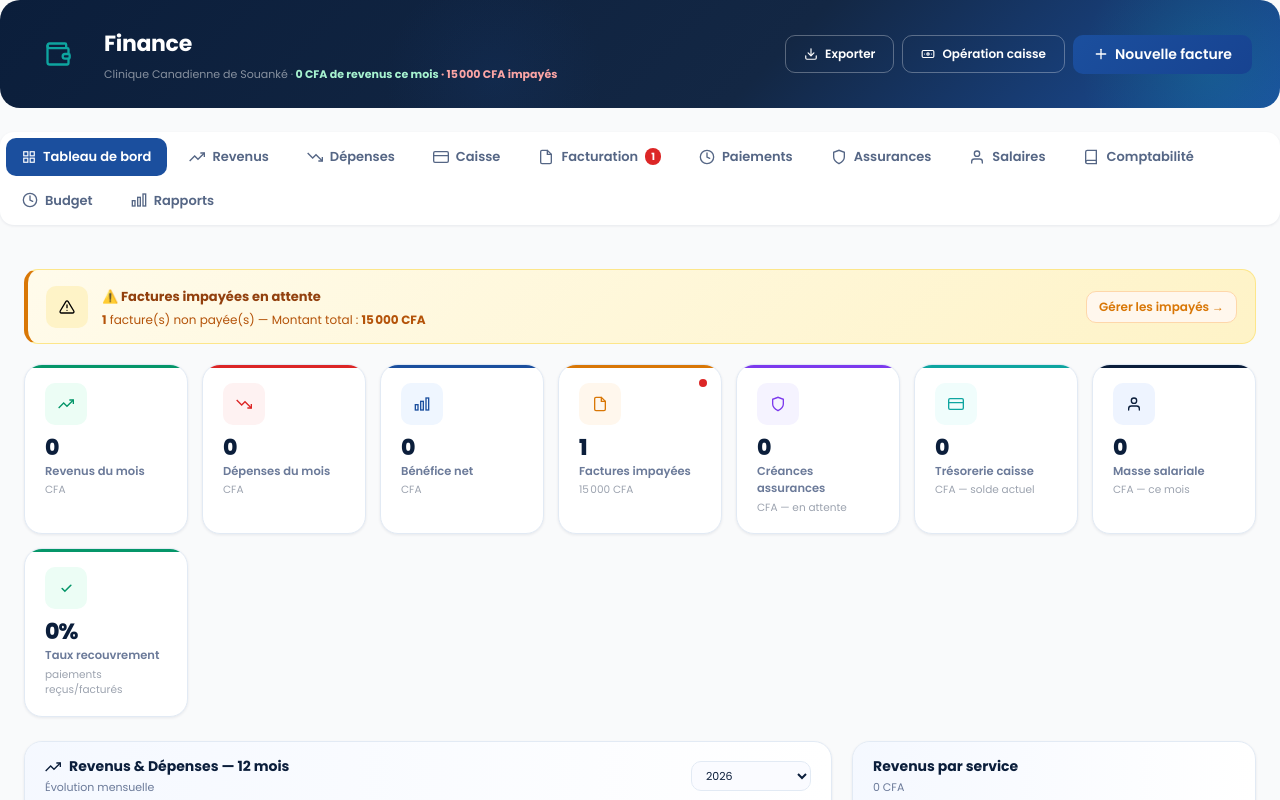
Test case: contrôle négatif — PUT /finance/:id réussit réellement → vrai succès, le bouton "Payer" disparaît
Click the button "Facturation 1". click: (600, 157)
box: x1=522 y1=138 x2=677 y2=176
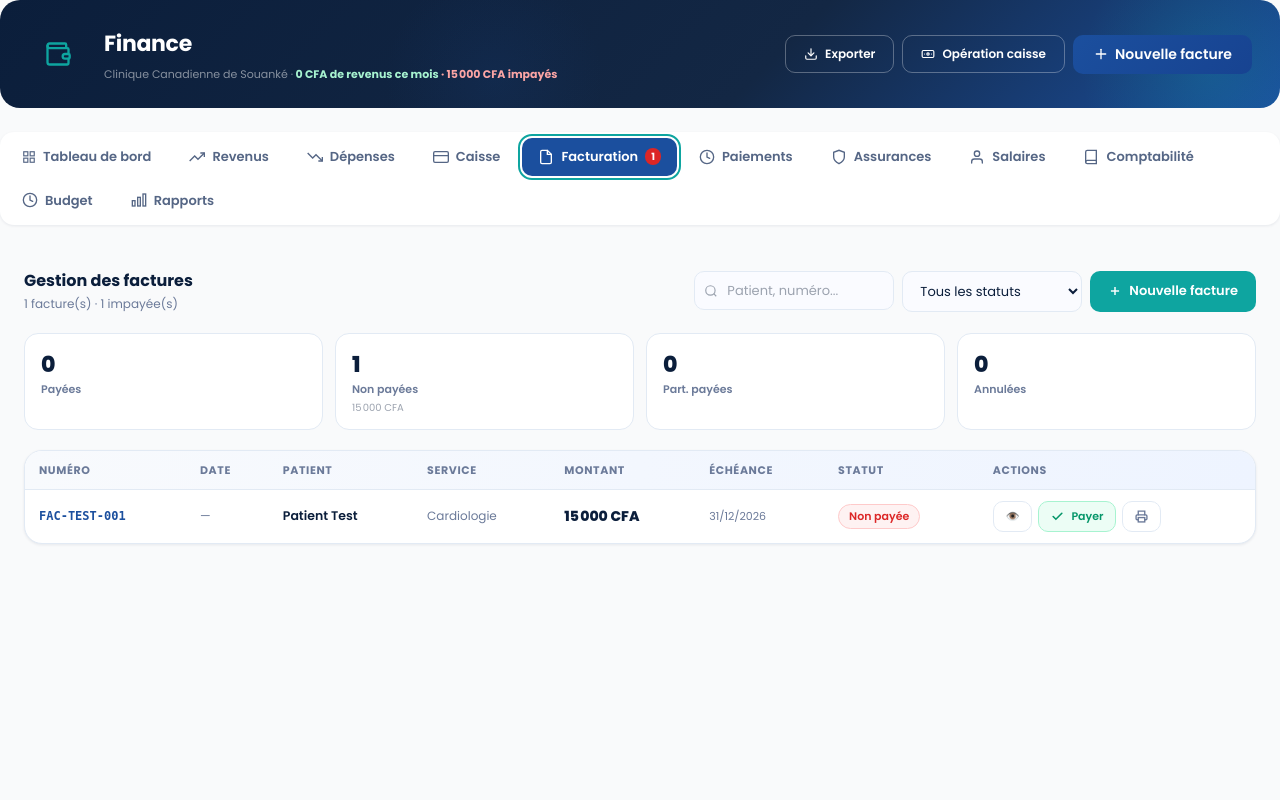
Check: the button "Payer" is shown
Click the button "Payer". click: (1077, 516)
box: x1=1038 y1=501 x2=1116 y2=532
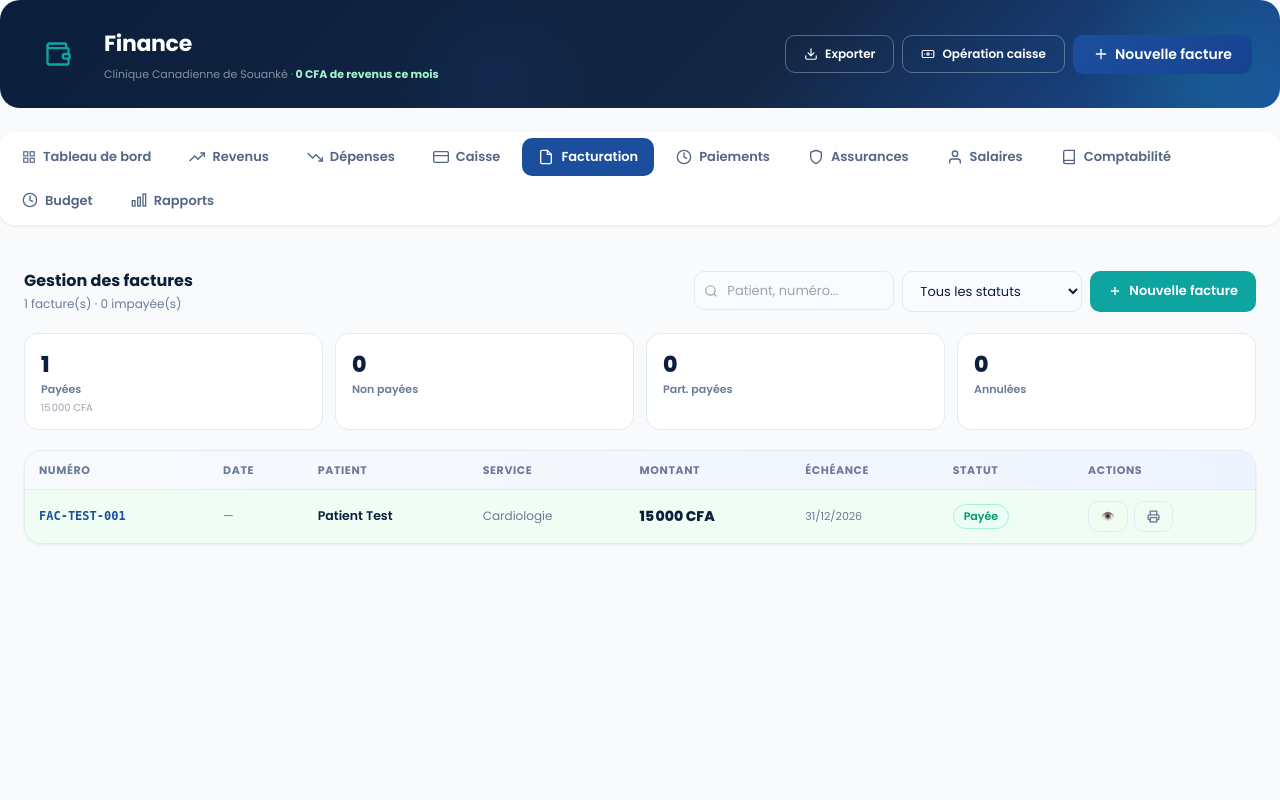
Check: the button "Payer" is gone
